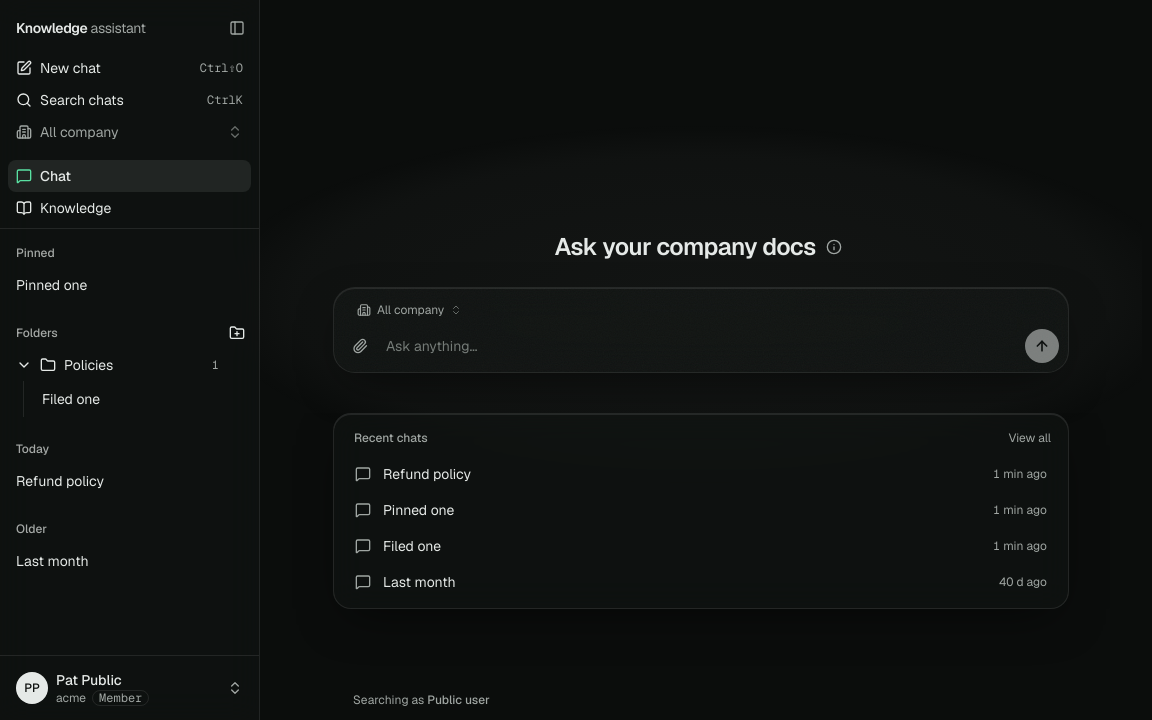
Test case: the history sidebar › searches chats from the sidebar, in the palette, and marks the matches
This screenshot has width=1152, height=720.
Click the button "Search chats CtrlK" at {"x": 130, "y": 100}, box [8,84,251,116]
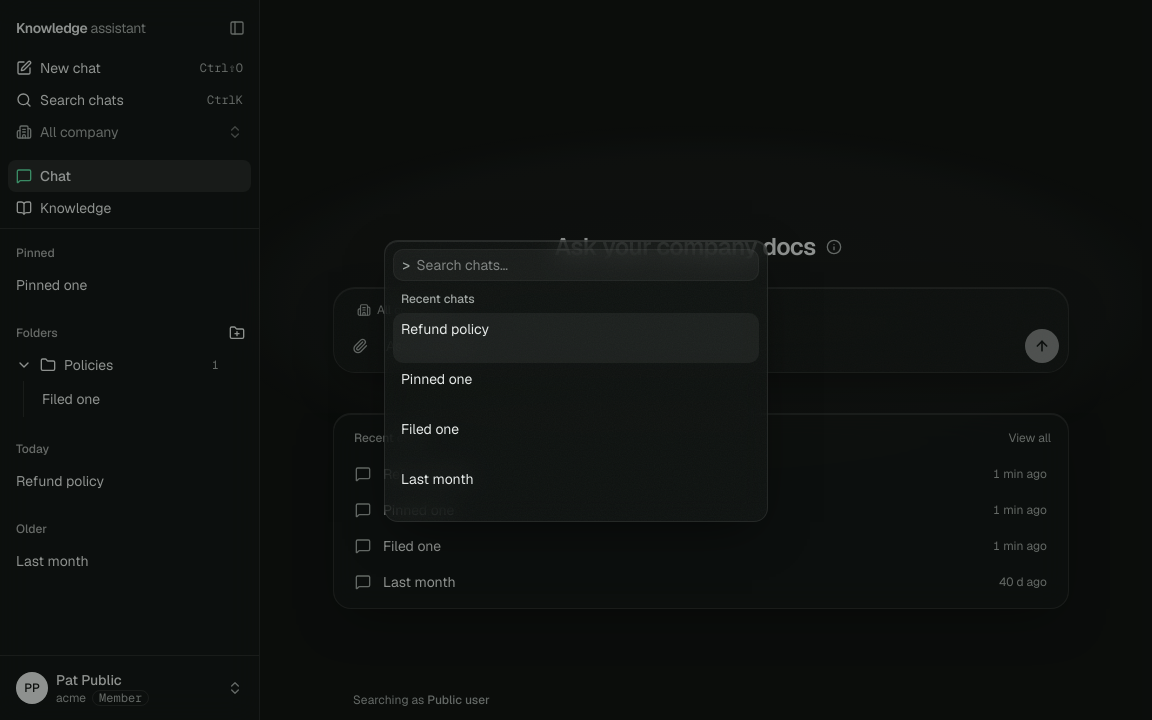
Type "thirty" into the dropdown at {"x": 584, "y": 265}, box [410,255,758,275]
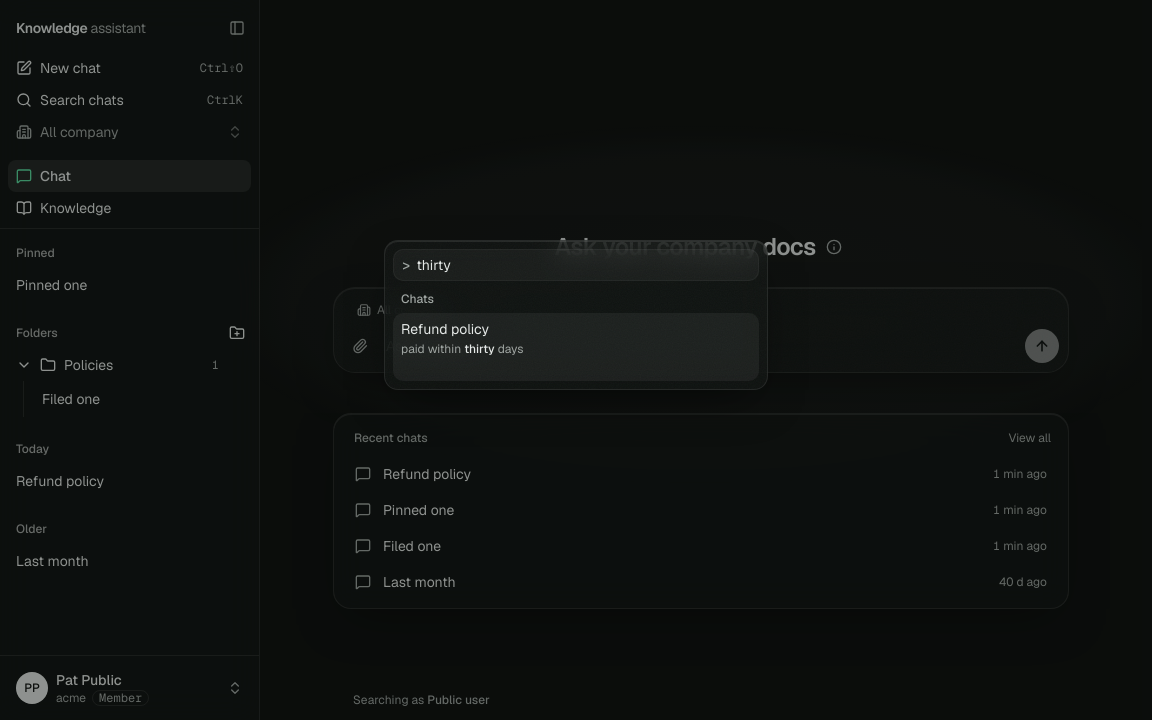
Now the option "Refund policy paid within thirty days" is shown, box [393,313,759,381]
